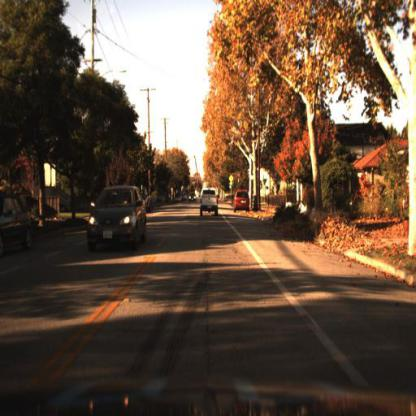car: (86, 187, 149, 255), (1, 193, 35, 260), (199, 186, 221, 217), (233, 190, 251, 216), (188, 193, 199, 205)
